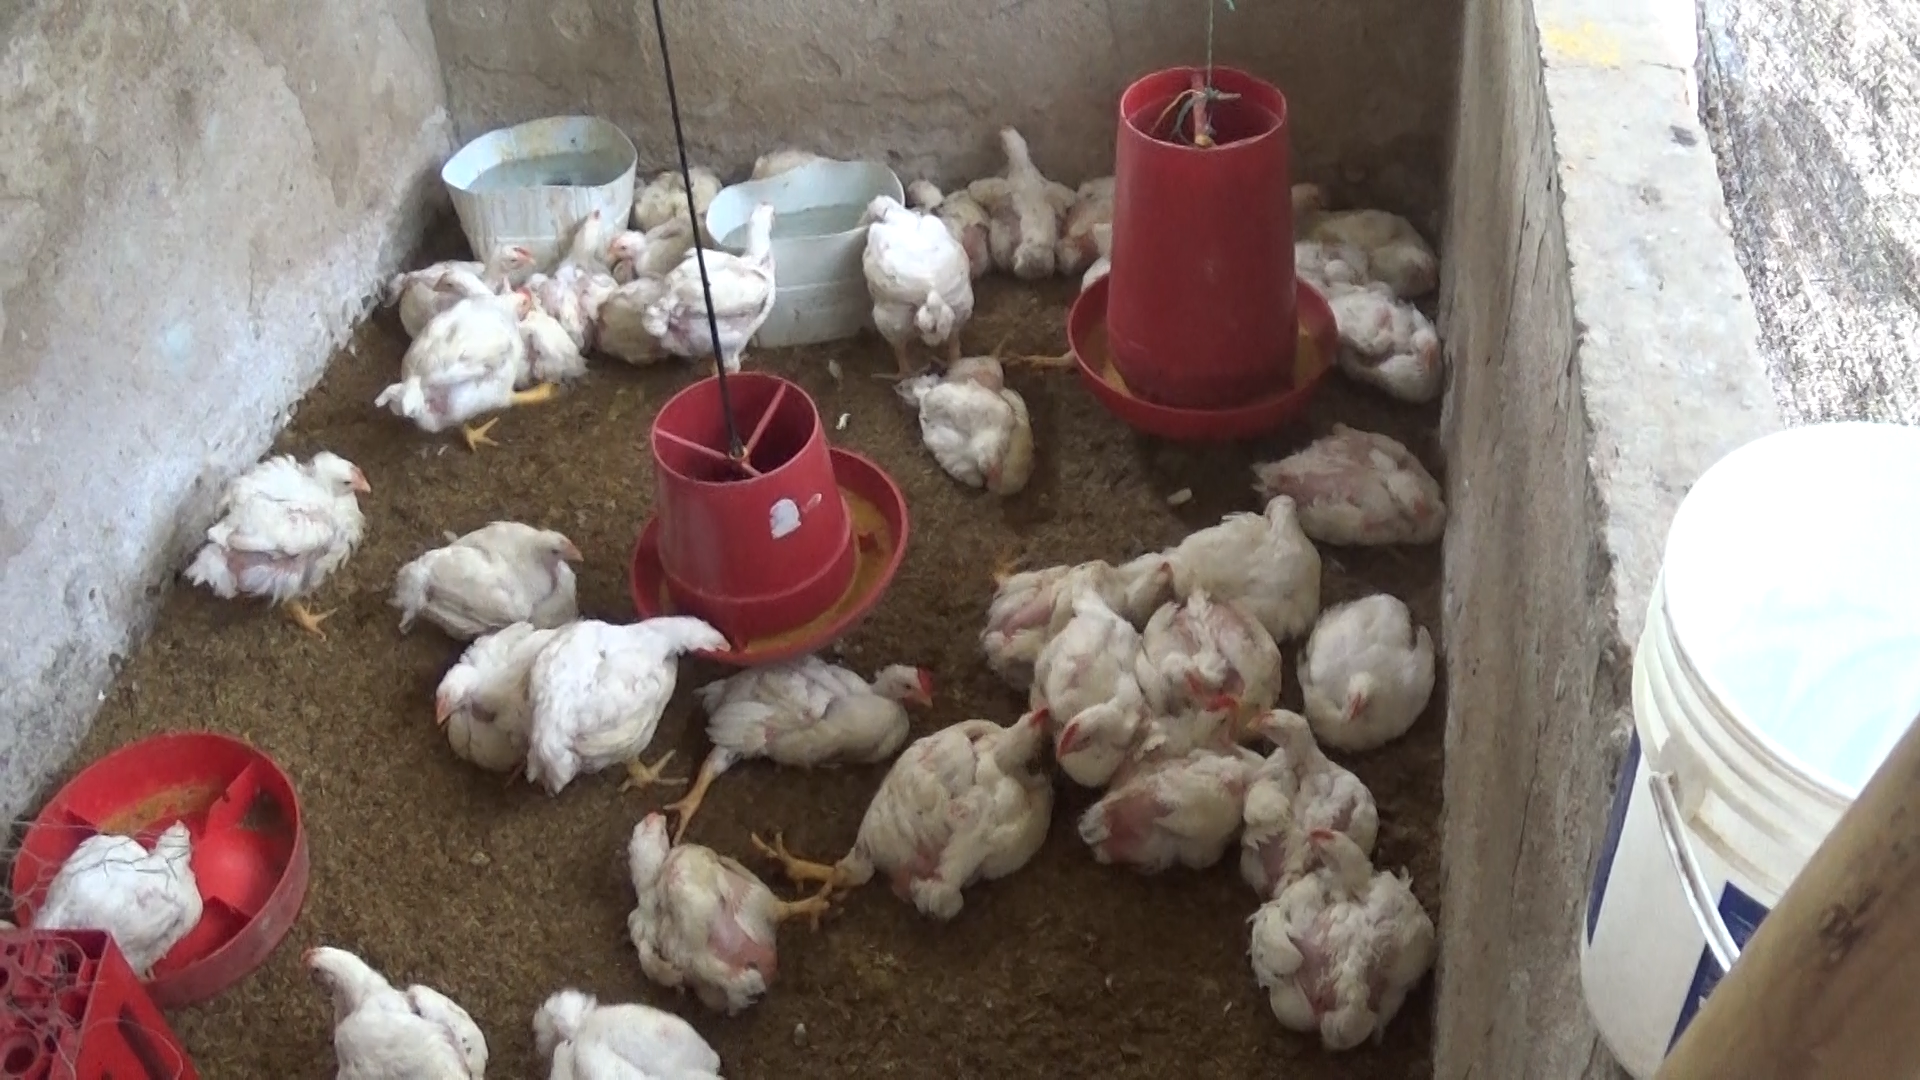Pollos: (822, 694, 1077, 902), (1244, 814, 1451, 1052), (167, 438, 365, 642), (520, 622, 741, 803), (680, 658, 936, 791), (616, 812, 789, 1009), (284, 920, 487, 1080), (1095, 696, 1276, 872), (30, 796, 218, 967), (382, 284, 546, 458), (419, 624, 562, 812), (673, 195, 800, 404), (1286, 578, 1437, 746), (861, 185, 989, 382), (989, 529, 1167, 669), (400, 513, 605, 633), (1244, 703, 1373, 882), (1259, 419, 1445, 535), (512, 988, 738, 1080), (1146, 593, 1288, 738), (1033, 585, 1130, 785), (897, 361, 1033, 497), (1307, 185, 1455, 302), (977, 121, 1069, 301), (380, 233, 541, 326), (1196, 495, 1320, 612), (1335, 284, 1457, 401), (593, 212, 694, 277)
